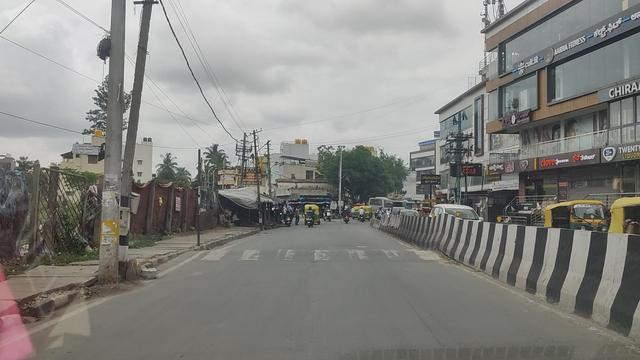SpeedBump: (197, 245, 439, 266)
